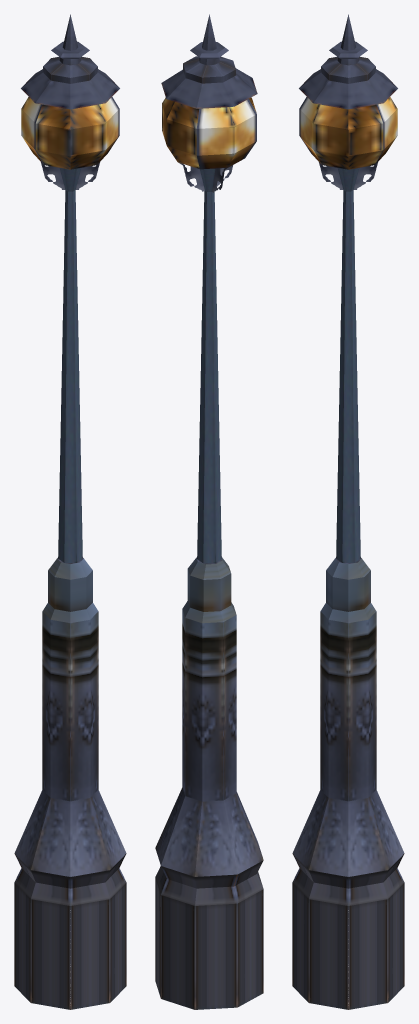
File: OldLantern01a.obj
3 renders of one model, left to right at view 1: azimuth 90°, elevation 25°; view 2: azimuth 210°, elevation 25°; view 3: azimuth 270°, elevation 25°, orthographic.
Parts seen in each view (by area): view 1: OldLantern01a; view 2: OldLantern01a; view 3: OldLantern01a.
Part boxes in pixels (x1,y1,x2,y2): OldLantern01a: (14,14,126,1009); OldLantern01a: (155,14,263,1009); OldLantern01a: (292,14,404,1009).
Bounding box in the file's own units: 0.4988 × 4.77 × 0.4988.
